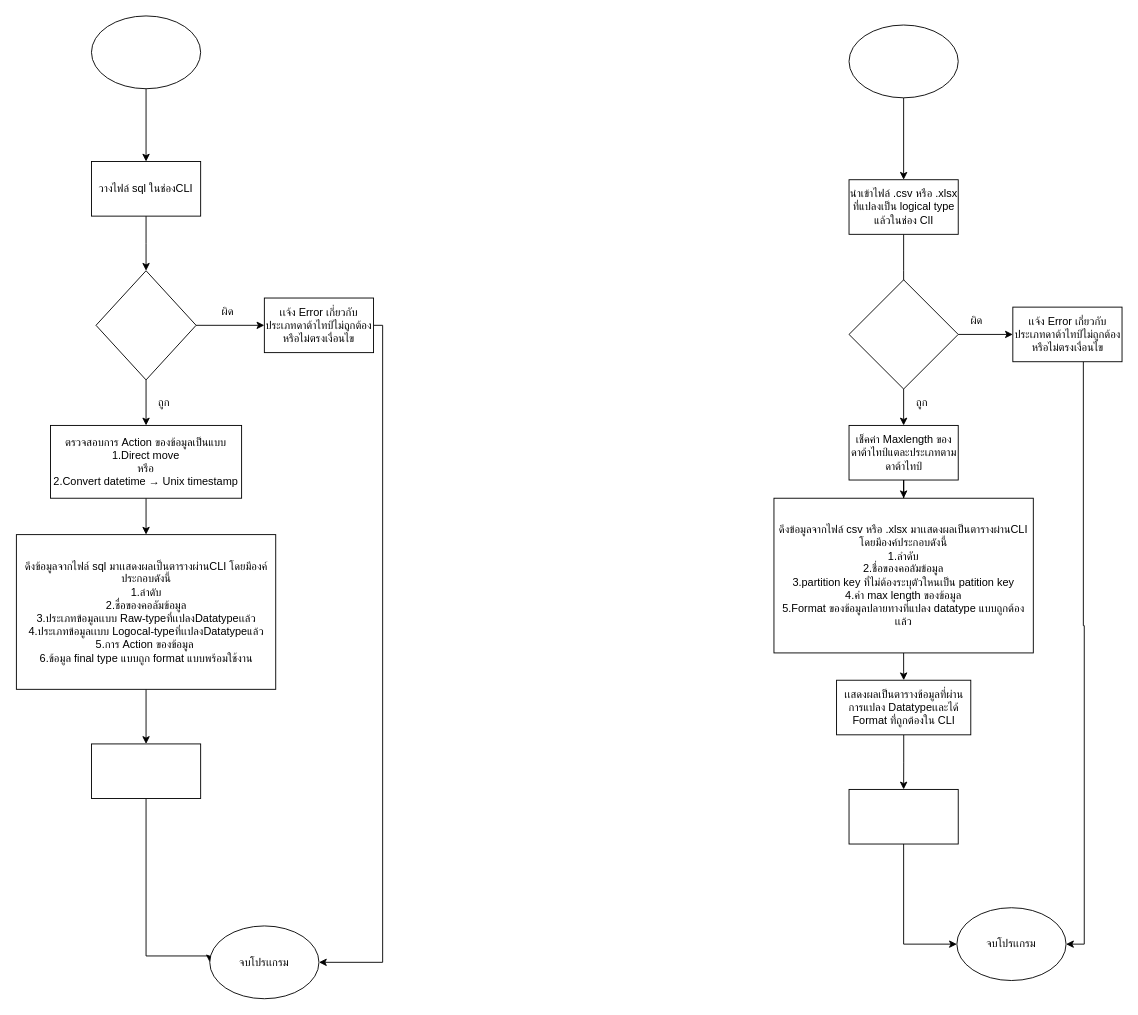
This 1138x1015 diagram has some shape labels left out. Here are the shapes that lost their labels. From the top down, the centre of each, then its label:
point (146, 52): เริ่มโปรเเกรม
point (903, 61): เริ่มต้นโปรเเกรม
point (145, 325): ระบบตรวจสอบตามเงื่อนไขที่ได้กำหนดไว้
point (903, 334): ระบบตรวจสอบ datatype logical ตรงตามเงื่อนไขที่ได้กำหนดไว้ใน pythonหรือไม่
point (146, 771): เเสดงผลเป็นตารางข้อมูลที่ผ่านการแปลง Datatypeมาเเบบเรียบร้อยเเล้วในCLI
point (903, 816): Export .csv หรือ .xlsx final type ที่พร้อมใช้งาน
